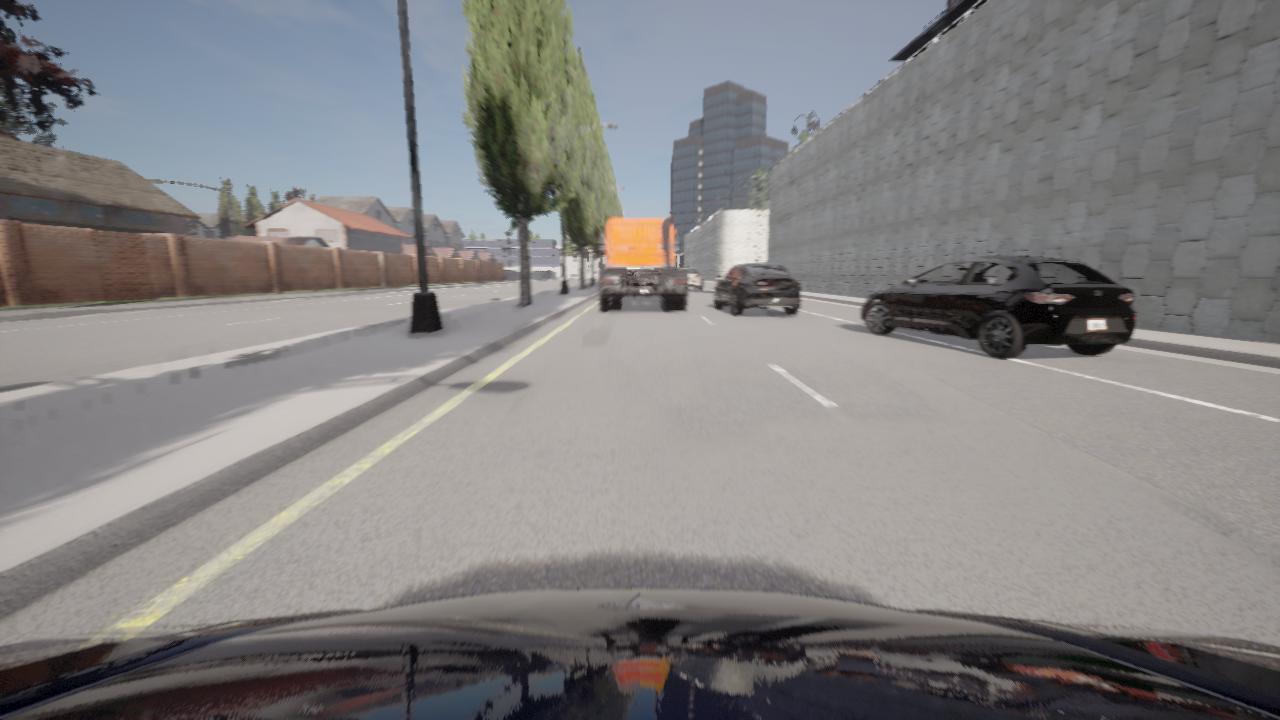cyclist: (0, 588, 1279, 719), (861, 256, 1135, 358), (599, 216, 688, 311), (714, 263, 800, 314), (677, 267, 702, 290)
